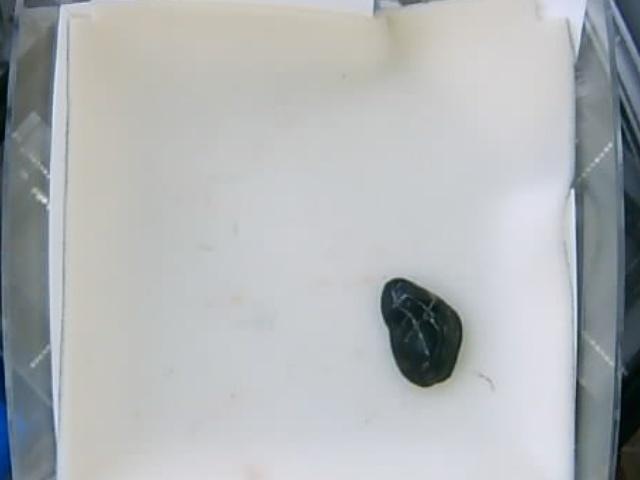Pebble: (380, 275, 464, 388)
